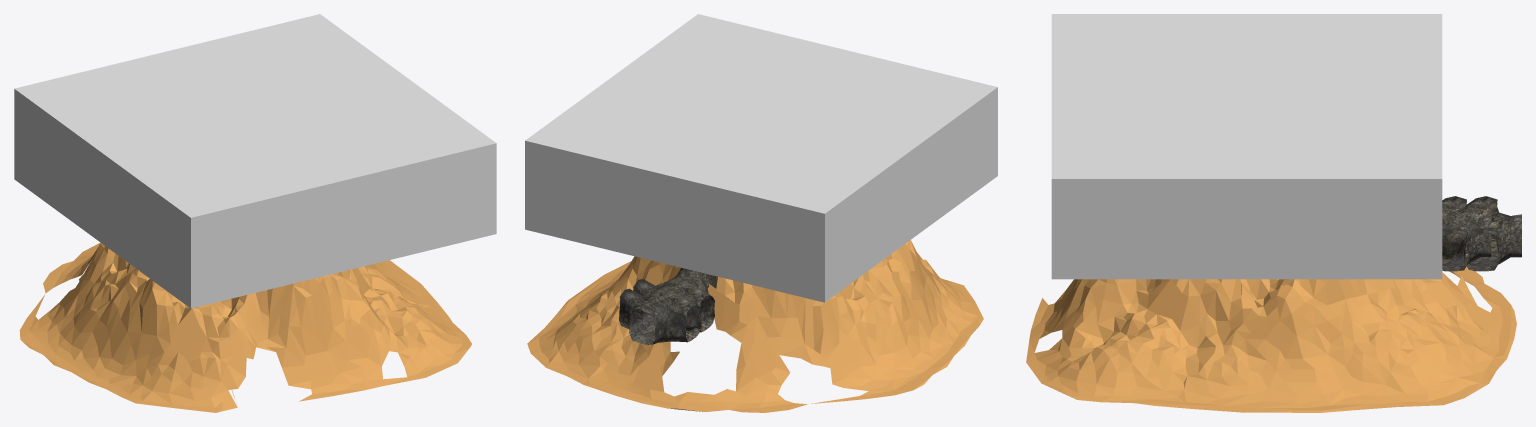
The model's file is modular-exit.glb.
3 views of the same model, side by side, from view 1: azimuth 30°, elevation 25°; view 2: azimuth 150°, elevation 25°; view 3: azimuth 270°, elevation 25° (orthographic). The views are drawn at different scales.
Parts seen in each view (by area): view 1: Plane, Mounting_1; view 2: Plane, Mounting_1, Object010_mine_0.002, inner tunnel; view 3: Plane, Mounting_1, Object010_mine_0.002, inner tunnel.
Part boxes in pixels (box(x1,y1,x2,y2)): Plane: box(14, 14, 496, 308); Mounting_1: box(19, 242, 471, 412); Plane: box(525, 14, 997, 302); Mounting_1: box(527, 240, 983, 412); Object010_mine_0.002: box(619, 268, 717, 344); inner tunnel: box(633, 276, 714, 332); Plane: box(1051, 14, 1442, 279); Mounting_1: box(1026, 266, 1516, 412); Object010_mine_0.002: box(1442, 196, 1521, 271); inner tunnel: box(1442, 196, 1491, 271).
Bounding box in the file's own units: 47.15 × 25.74 × 50.77.
4 materials, 3 textured.
